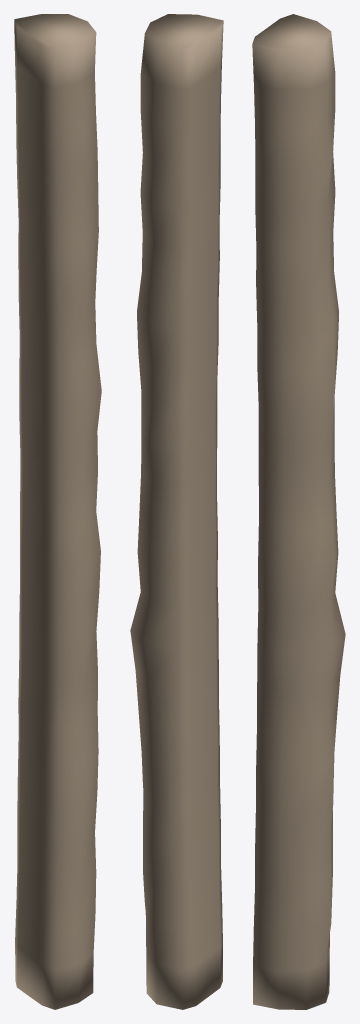
The model's file is ladder_rail.glb.
3 renders of one model, left to right at view 1: azimuth 30°, elevation 25°; view 2: azimuth 150°, elevation 25°; view 3: azimuth 330°, elevation 25°, orthographic.
Visible parts, largest first — view 1: Rail; view 2: Rail; view 3: Rail.
Boxes of the visible parts, box(x1,y1,x2,y2) form: Rail: box(14, 14, 101, 1009); Rail: box(130, 14, 223, 1009); Rail: box(252, 14, 345, 1009).
Bounding box in the file's own units: 0.0739 × 1 × 0.0812.
